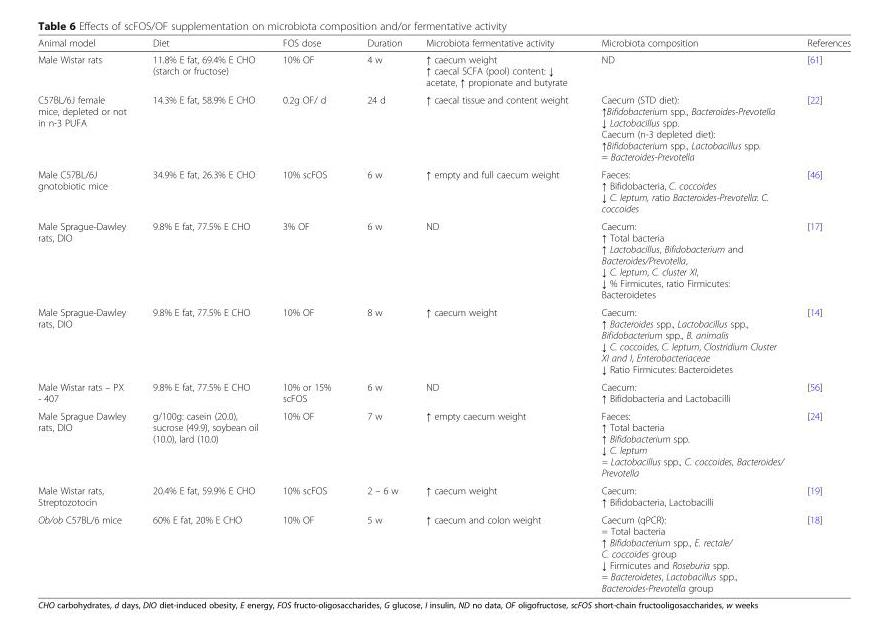table: (38, 36, 851, 593)
table column: (585, 36, 795, 593), (414, 36, 585, 593), (139, 36, 270, 593), (38, 36, 139, 593), (270, 36, 349, 593), (349, 36, 414, 593), (795, 36, 851, 593)
table column header: (38, 36, 851, 50)
table row: (38, 217, 851, 302), (38, 510, 851, 593), (38, 90, 851, 165), (38, 302, 851, 377), (38, 406, 851, 481), (38, 165, 851, 217), (38, 50, 851, 90), (38, 377, 851, 406), (38, 481, 851, 510), (38, 36, 851, 50)
